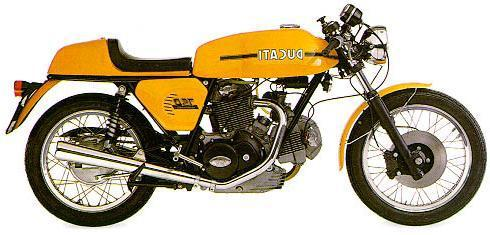motorcycle: (4, 2, 490, 231)
